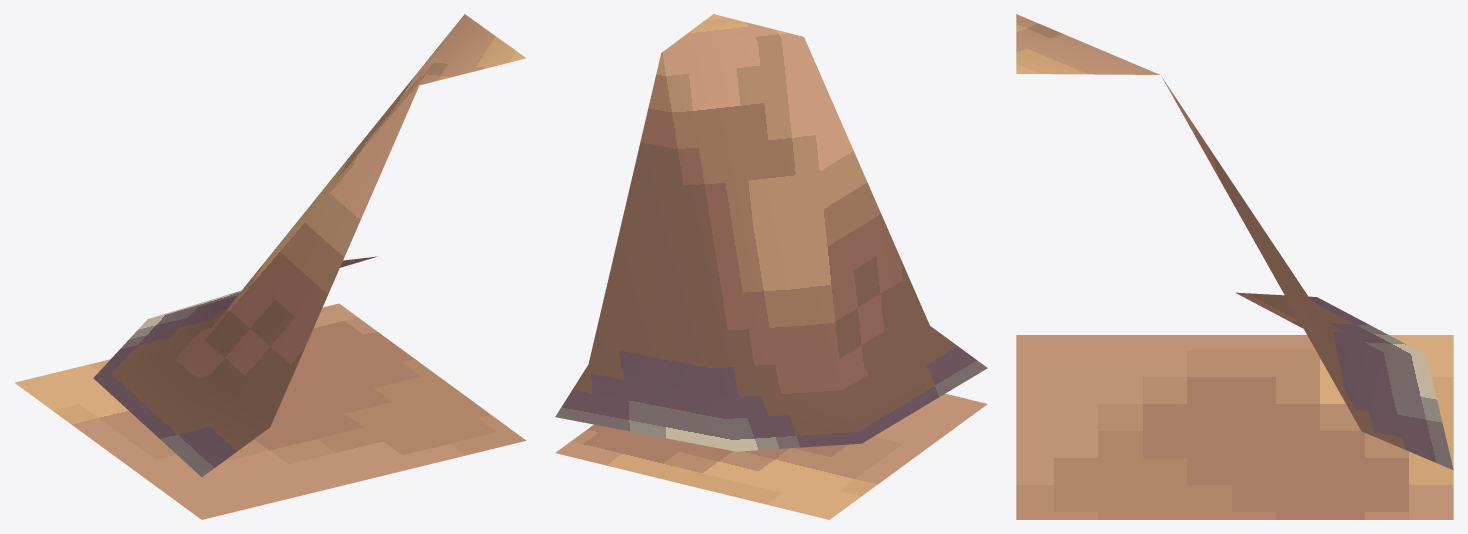
The picture shows the model from 3 angles, left to right: view 1: azimuth 30°, elevation 25°; view 2: azimuth 150°, elevation 25°; view 3: azimuth 270°, elevation 25°; orthographic projection. The views are drawn at different scales.
Size of the model in its own units: 1 by 1.12 by 1.
Materials: 3 (3 with a texture image).
